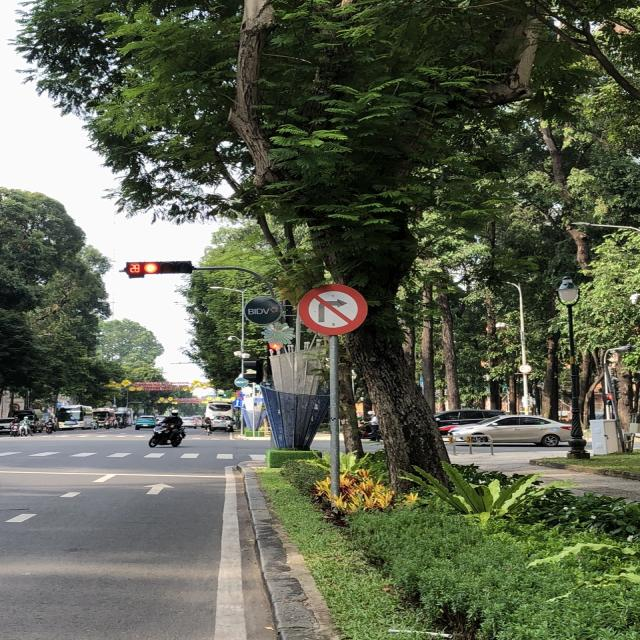Bien bao cam re phai: (296, 277, 370, 336)
